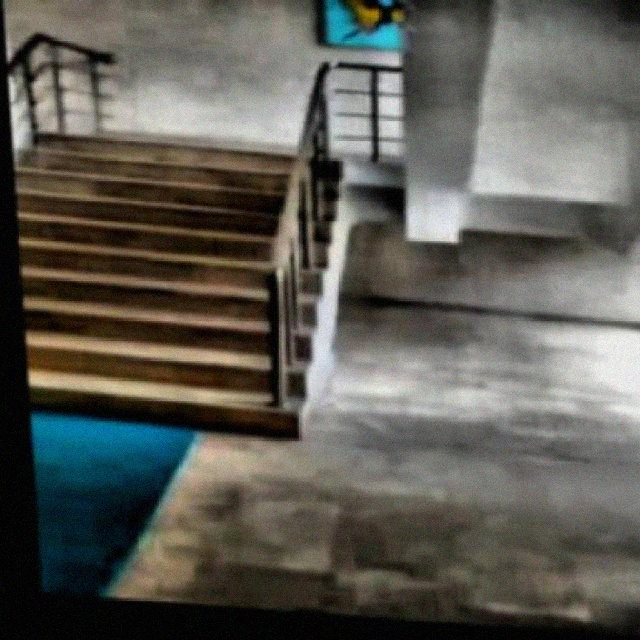stair: (11, 137, 371, 451)
